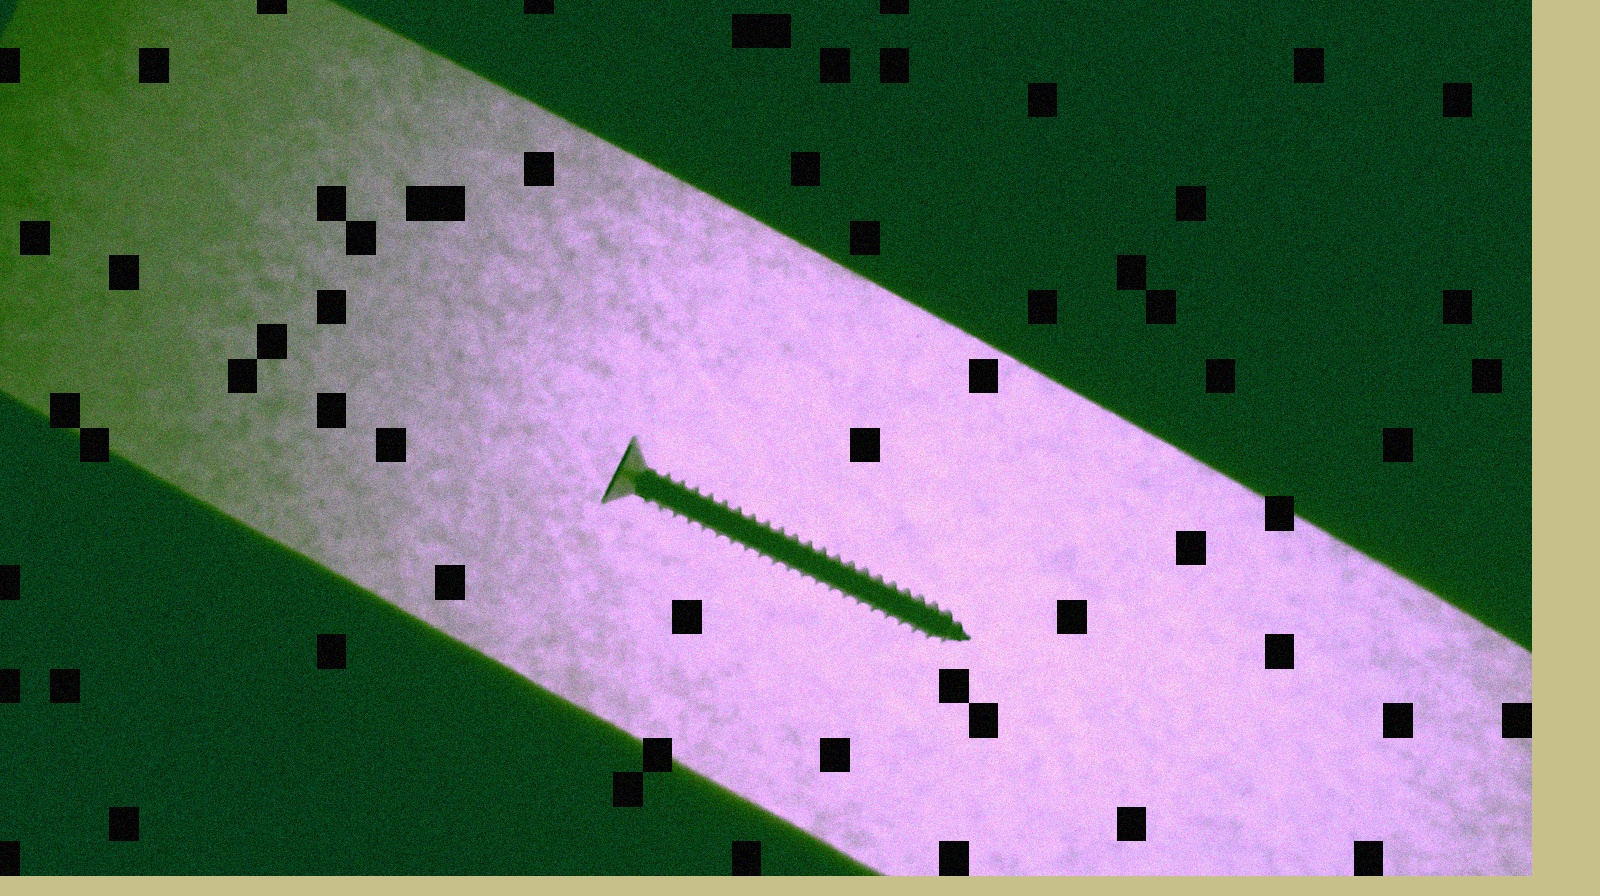S002: (589, 432, 971, 657)
